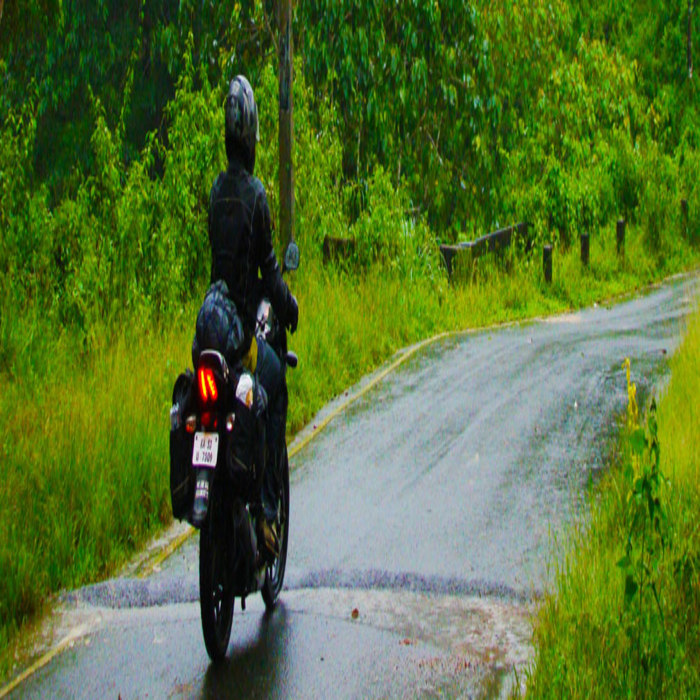h: (224, 72, 261, 171)
n: (192, 429, 218, 470)
